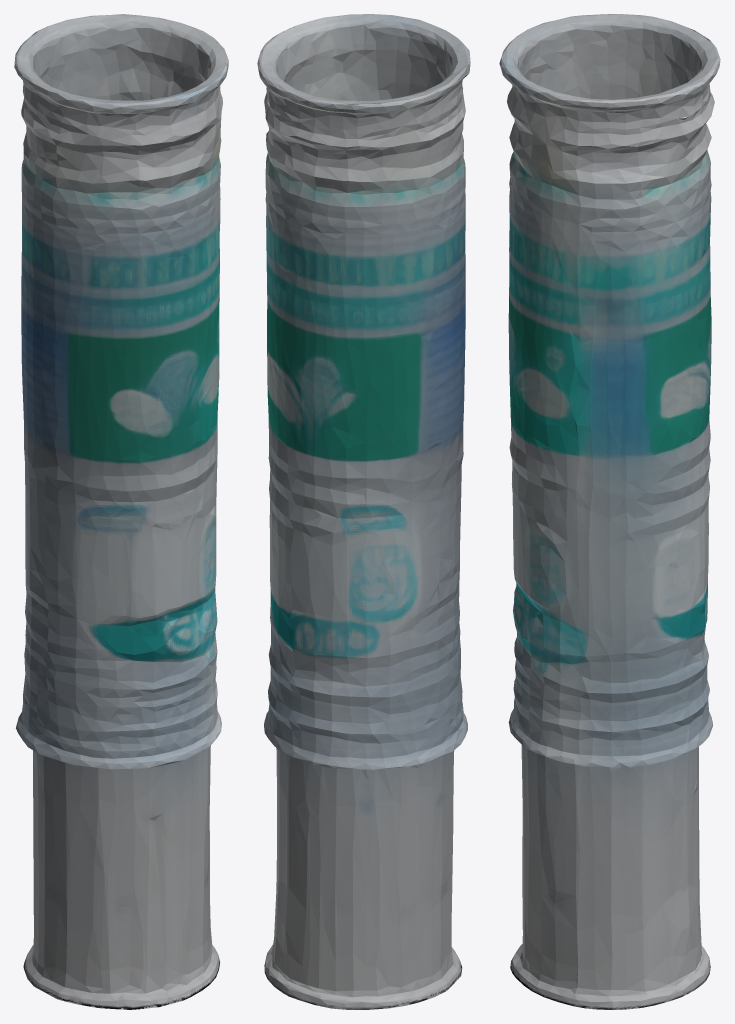
Rendered from bolynhua.fbx.
The picture shows the model from 3 angles, left to right: view 1: azimuth 30°, elevation 25°; view 2: azimuth 150°, elevation 25°; view 3: azimuth 270°, elevation 25°; orthographic projection.
Visible parts, largest first — view 1: world; view 2: world; view 3: world.
Boxes of the visible parts, x1,y1,x2,y2 form: world: (14,14,228,1009); world: (257,14,470,1009); world: (499,14,720,1009).
Size of the model in its own units: 0.211 by 1 by 0.2202.
1 material, 1 textured.
